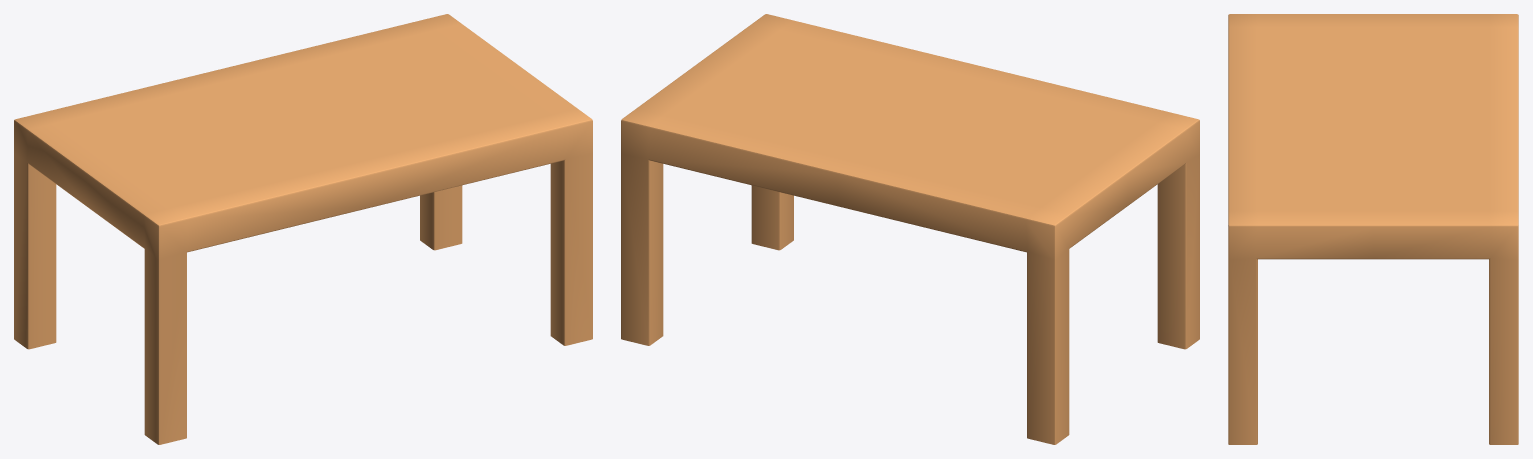
File: Restaurant_Kitchen Table.fbx
3 renders of one model, left to right at view 1: azimuth 30°, elevation 25°; view 2: azimuth 150°, elevation 25°; view 3: azimuth 270°, elevation 25°, orthographic.
Parts seen in each view (by area): view 1: Restaurant_Kitchen Table; view 2: Restaurant_Kitchen Table; view 3: Restaurant_Kitchen Table.
Part boxes in pixels (box(x1,y1,x2,y2)): Restaurant_Kitchen Table: box(14, 14, 592, 444); Restaurant_Kitchen Table: box(621, 14, 1199, 444); Restaurant_Kitchen Table: box(1228, 14, 1518, 444).
Bounding box in the file's own units: 214 × 103 × 124.
